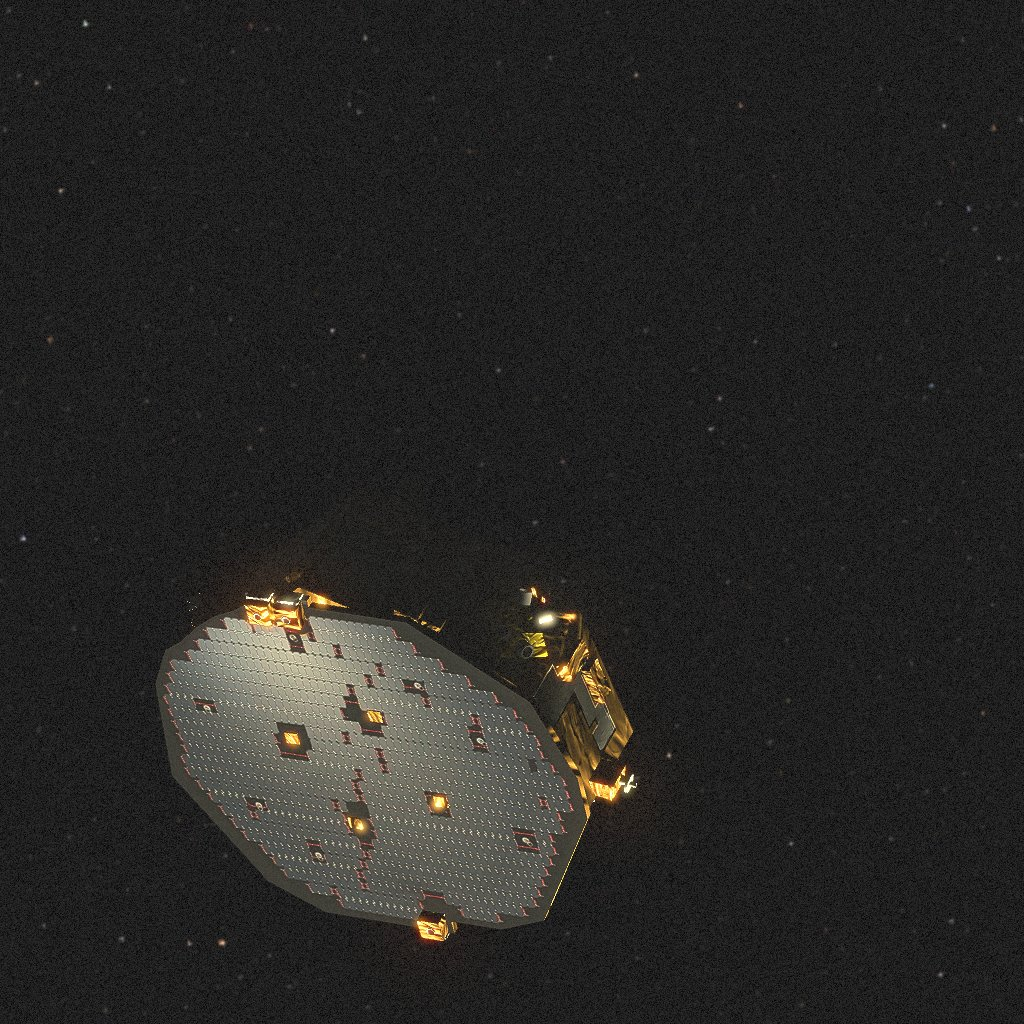lisa_pathfinder: (155, 468, 637, 941)
